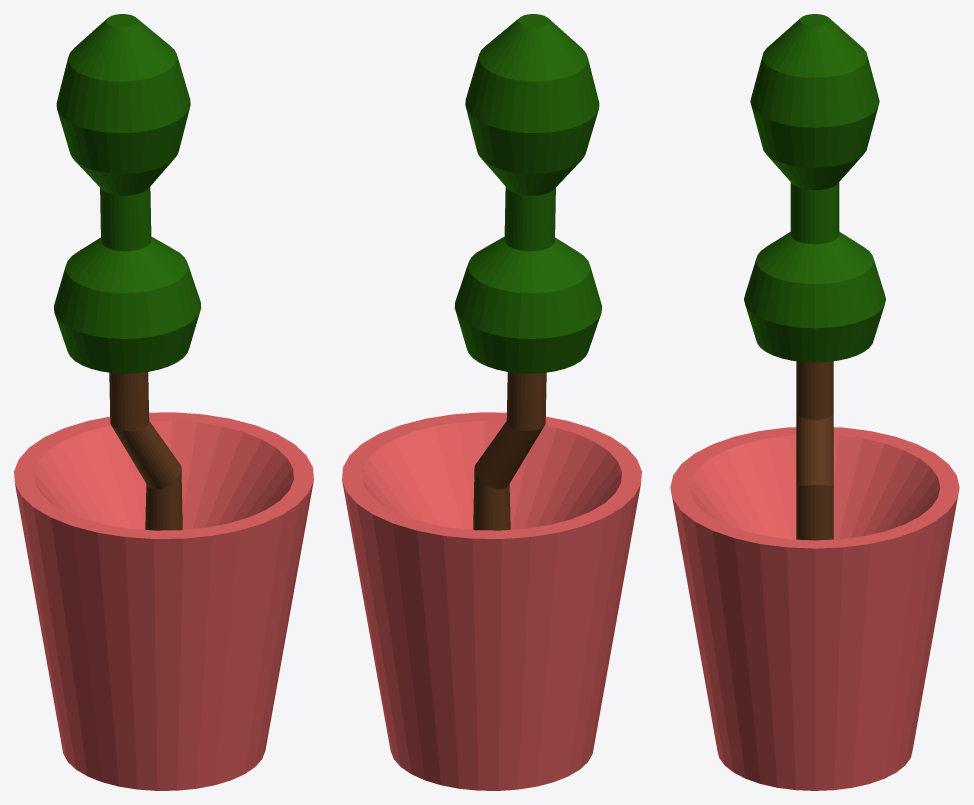
The model's file is FloorPlant.fbx.
3 renders of one model, left to right at view 1: azimuth 30°, elevation 25°; view 2: azimuth 150°, elevation 25°; view 3: azimuth 270°, elevation 25°, orthographic. The views are drawn at different scales.
Visible parts, largest first — view 1: Floor Plant; view 2: Floor Plant; view 3: Floor Plant.
Boxes of the visible parts, x1,y1,x2,y2 form: Floor Plant: [14, 14, 313, 790]; Floor Plant: [342, 14, 641, 790]; Floor Plant: [670, 14, 959, 790].
Bounding box in the file's own units: 200 × 542 × 200.
